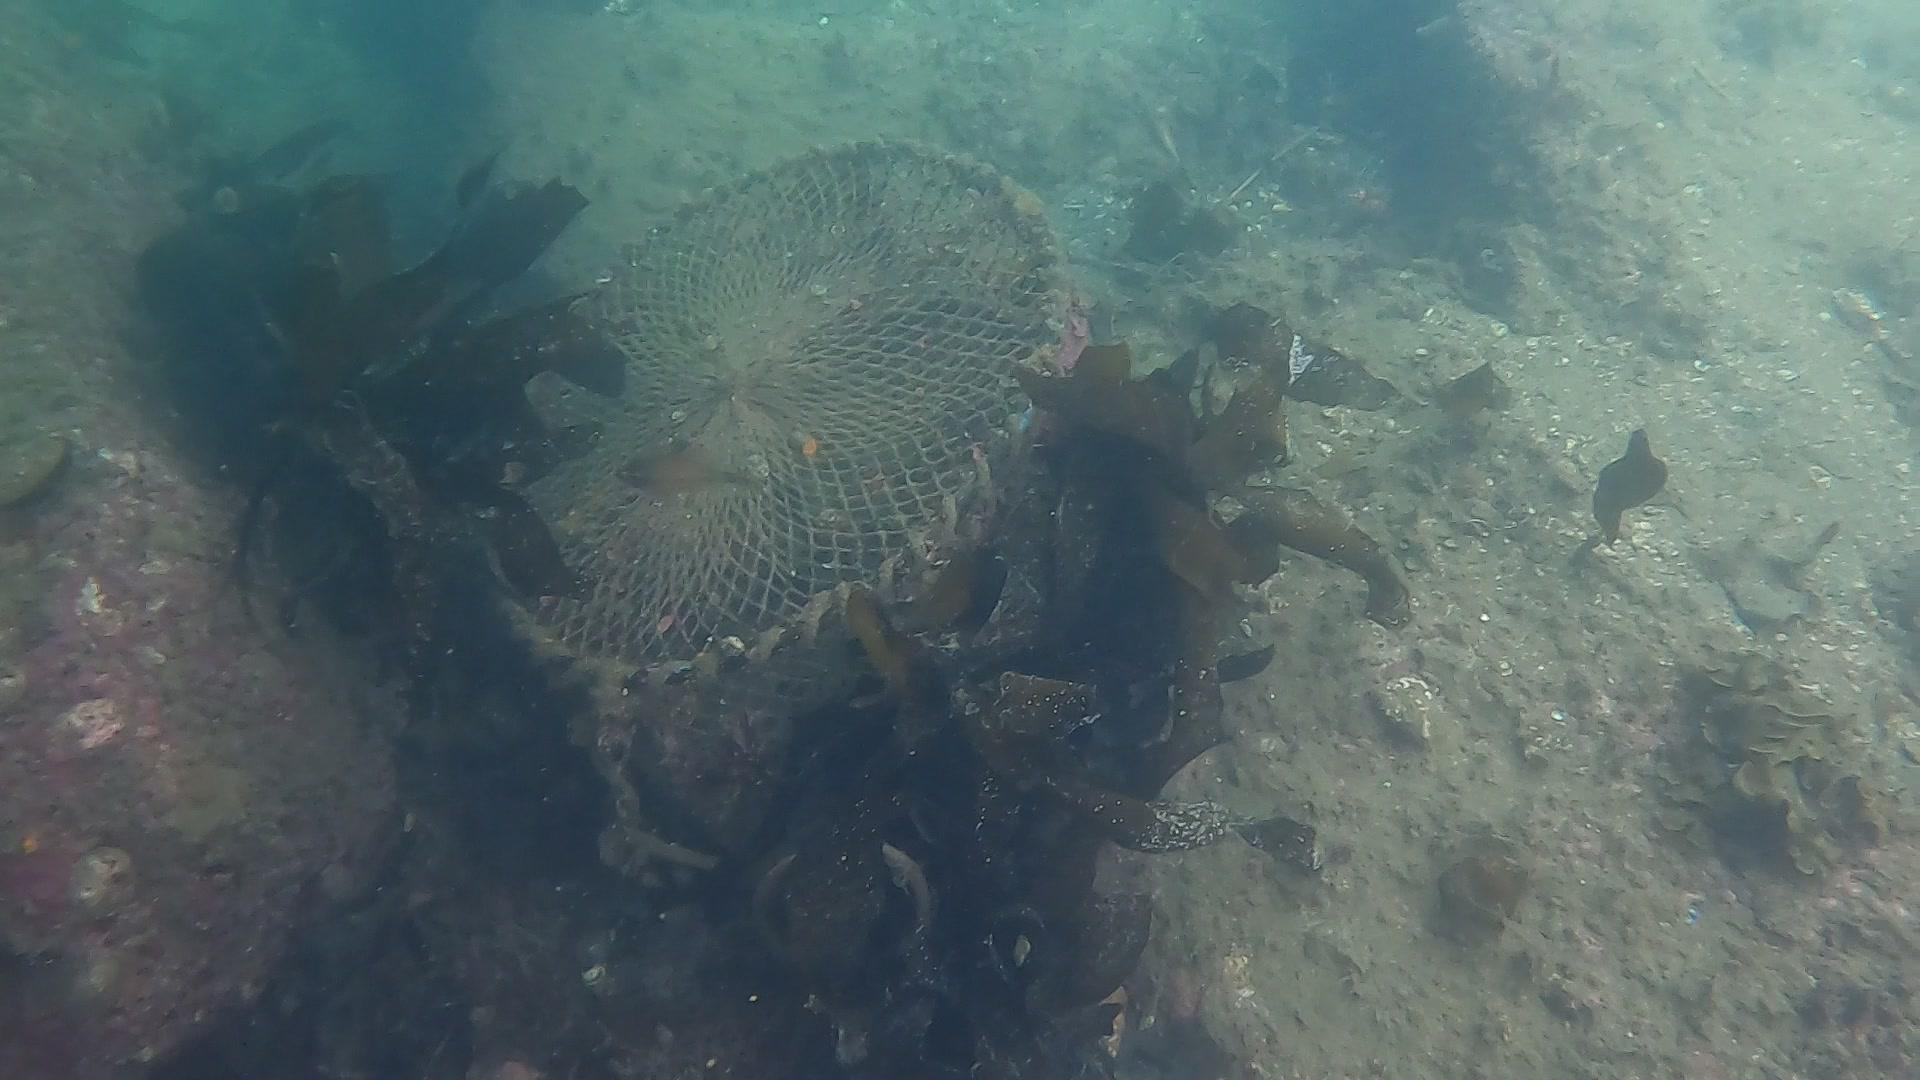circular fish trap: (465, 129, 1071, 833)
